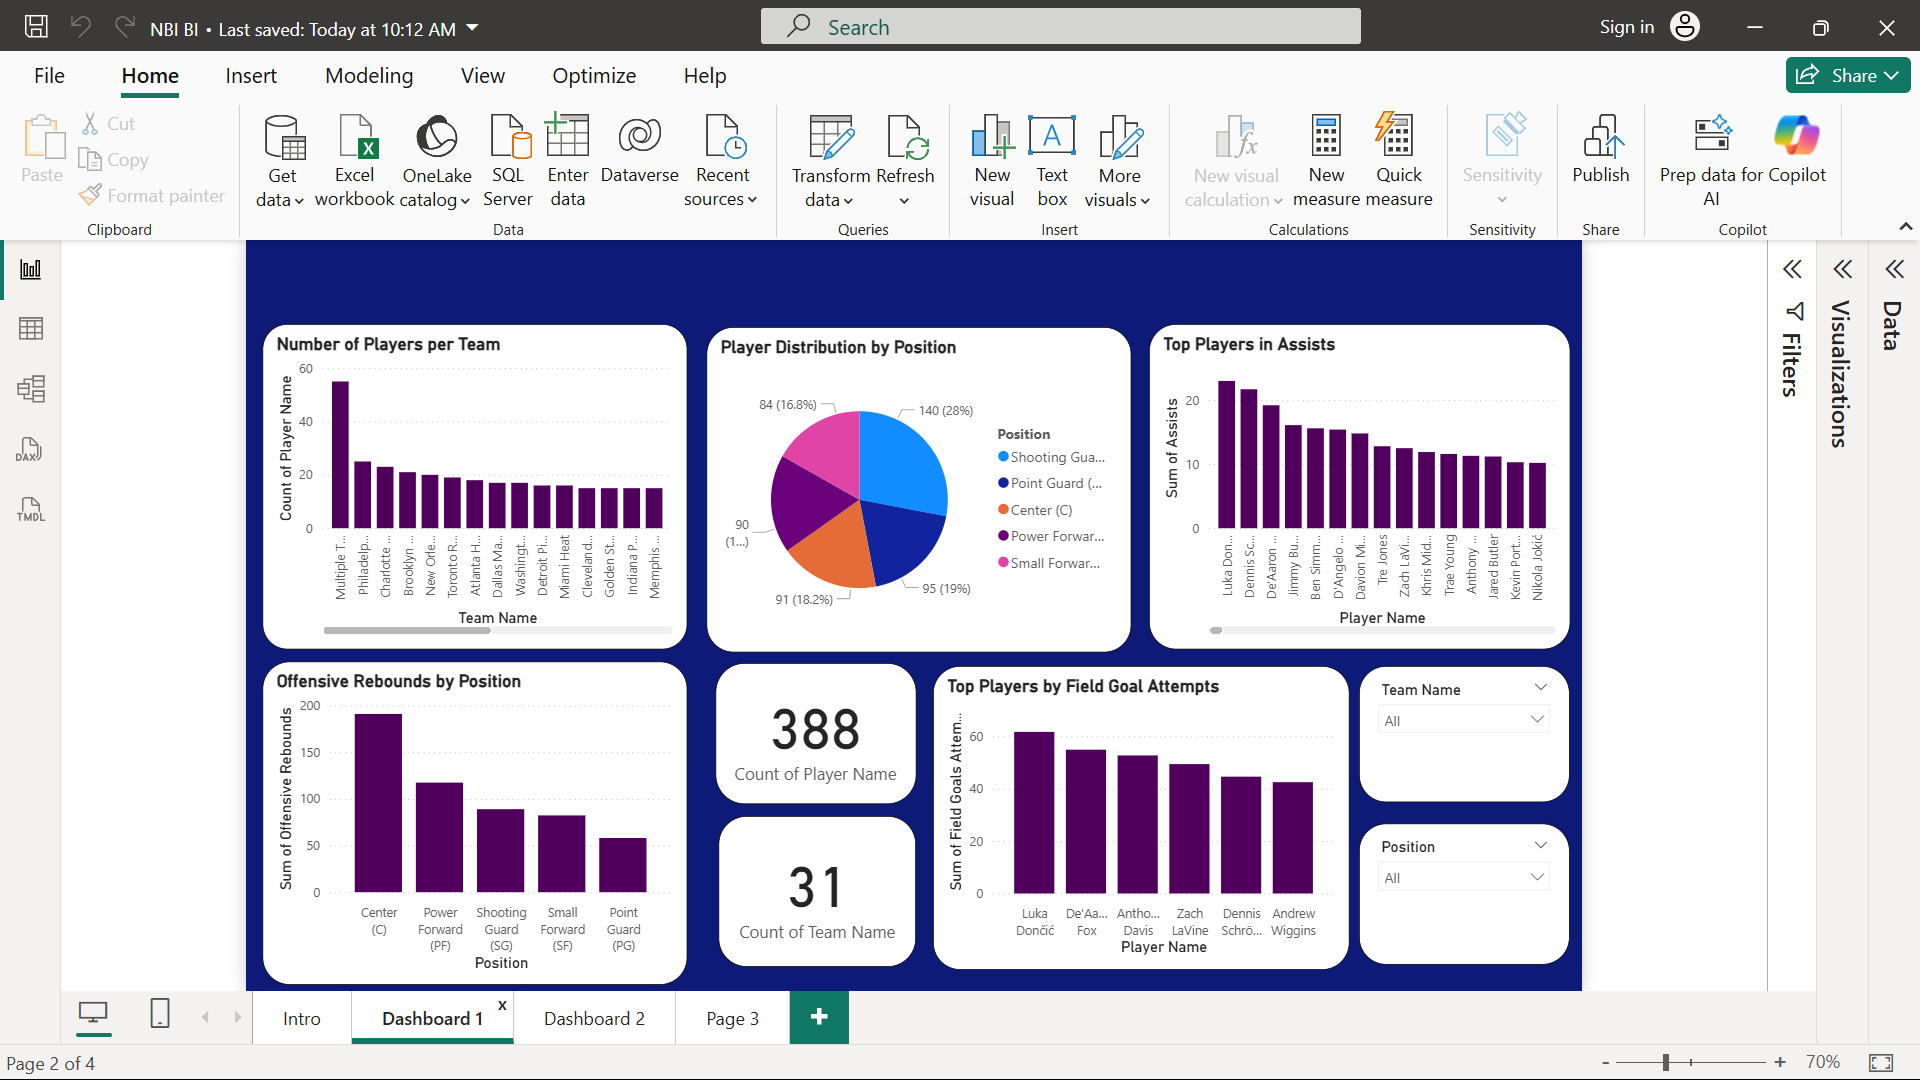

The dashboard page shown, as its layout file describes it:
{"tool":"powerbi","page":{"name":"Dashboard 1","canvas":[1280,720],"ordinal":1},"visuals":[{"type":"columnChart","title":"Number of Players per Team","fields":{"Category":["Table1.Team Name"],"Y":["Table1.Player Name"]},"box":[15.9,81.1,407.2,311.8],"z":0},{"type":"columnChart","title":"Top Players in Assists","fields":{"Category":["Table1.Player Name"],"Y":["Table1.Assists"]},"box":[865.3,81.1,404,311.8],"z":1000},{"type":"pieChart","title":"Player Distribution by Position","fields":{"Category":["Table1.Position"],"Y":["Table1.Player Name"]},"box":[442.2,82.7,407.2,311.8],"z":2000},{"type":"clusteredColumnChart","title":"Offensive Rebounds by Position","fields":{"Category":["Table1.Position"],"Y":["Table1.Offensive Rebounds"]},"box":[15.9,404,407.2,310.2],"z":3000},{"type":"card","fields":{"Values":["Table1.Player Name"]},"box":[450.1,405.6,192.5,135.2],"z":4000},{"type":"card","fields":{"Values":["Table1.Team Name"]},"box":[453.3,551.9,189.3,144.7],"z":5000},{"type":"slicer","fields":{"Values":["Table1.Team Name"]},"box":[1067.3,408.8,202,130.4],"z":6000},{"type":"slicer","fields":{"Values":["Table1.Position"]},"box":[1067.3,559.9,202,135.2],"z":7000},{"type":"columnChart","title":"Top Players by Field Goal Attempts","fields":{"Category":["Table1.Player Name"],"Y":["Table1.Field Goals Attempted"]},"box":[658.5,408.8,399.2,291.1],"z":9000}]}

Visuals, with their boxes on the page's 1280x720 design canvas (x1, y1, x2, y2). These are canvas units, not pixel positions in the 1920x1080 screenshot, which may show the page scaled, cropped or inside an application window:
"Number of Players per Team" columnChart: 16, 81, 423, 393
"Top Players in Assists" columnChart: 865, 81, 1269, 393
"Player Distribution by Position" pieChart: 442, 83, 849, 394
"Offensive Rebounds by Position" clusteredColumnChart: 16, 404, 423, 714
card - Table1.Player Name: 450, 406, 643, 541
card - Table1.Team Name: 453, 552, 643, 697
slicer - Table1.Team Name: 1067, 409, 1269, 539
slicer - Table1.Position: 1067, 560, 1269, 695
"Top Players by Field Goal Attempts" columnChart: 658, 409, 1058, 700
